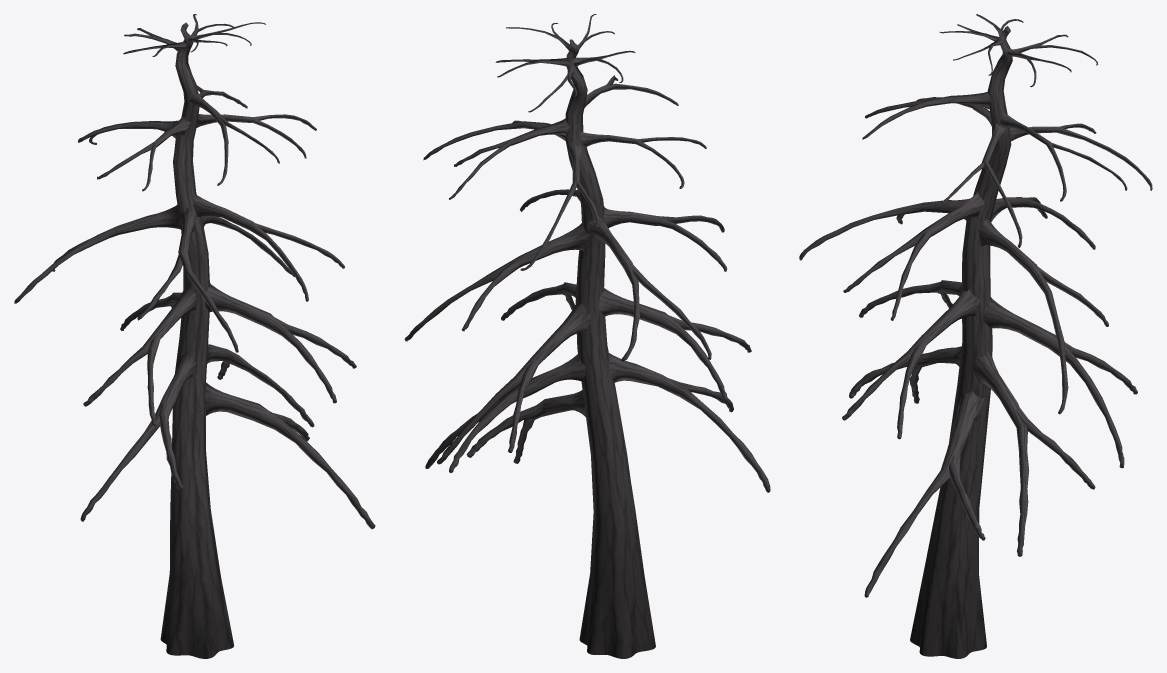
The model's file is DeadTree.glb.
The picture shows the model from 3 angles, left to right: view 1: azimuth 30°, elevation 25°; view 2: azimuth 150°, elevation 25°; view 3: azimuth 270°, elevation 25°; orthographic projection. The views are drawn at different scales.
Parts seen in each view (by area): view 1: DeadTree_5; view 2: DeadTree_5; view 3: DeadTree_5.
Boxes of the visible parts, x1,y1,x2,y2 form: DeadTree_5: (14,14,375,658); DeadTree_5: (404,14,770,658); DeadTree_5: (799,14,1152,658).
Size of the model in its own units: 8.36 by 16.44 by 8.41.
1 material, 1 textured.
